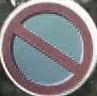No waiting: (3, 3, 94, 93)
